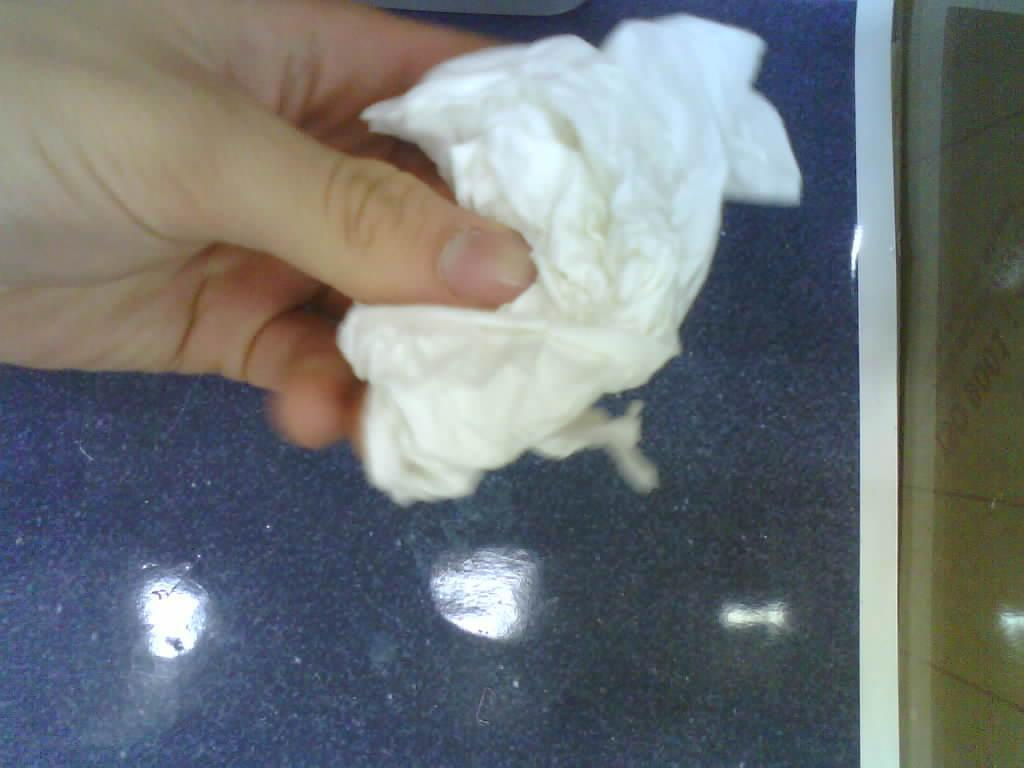paper: (338, 16, 805, 502)
